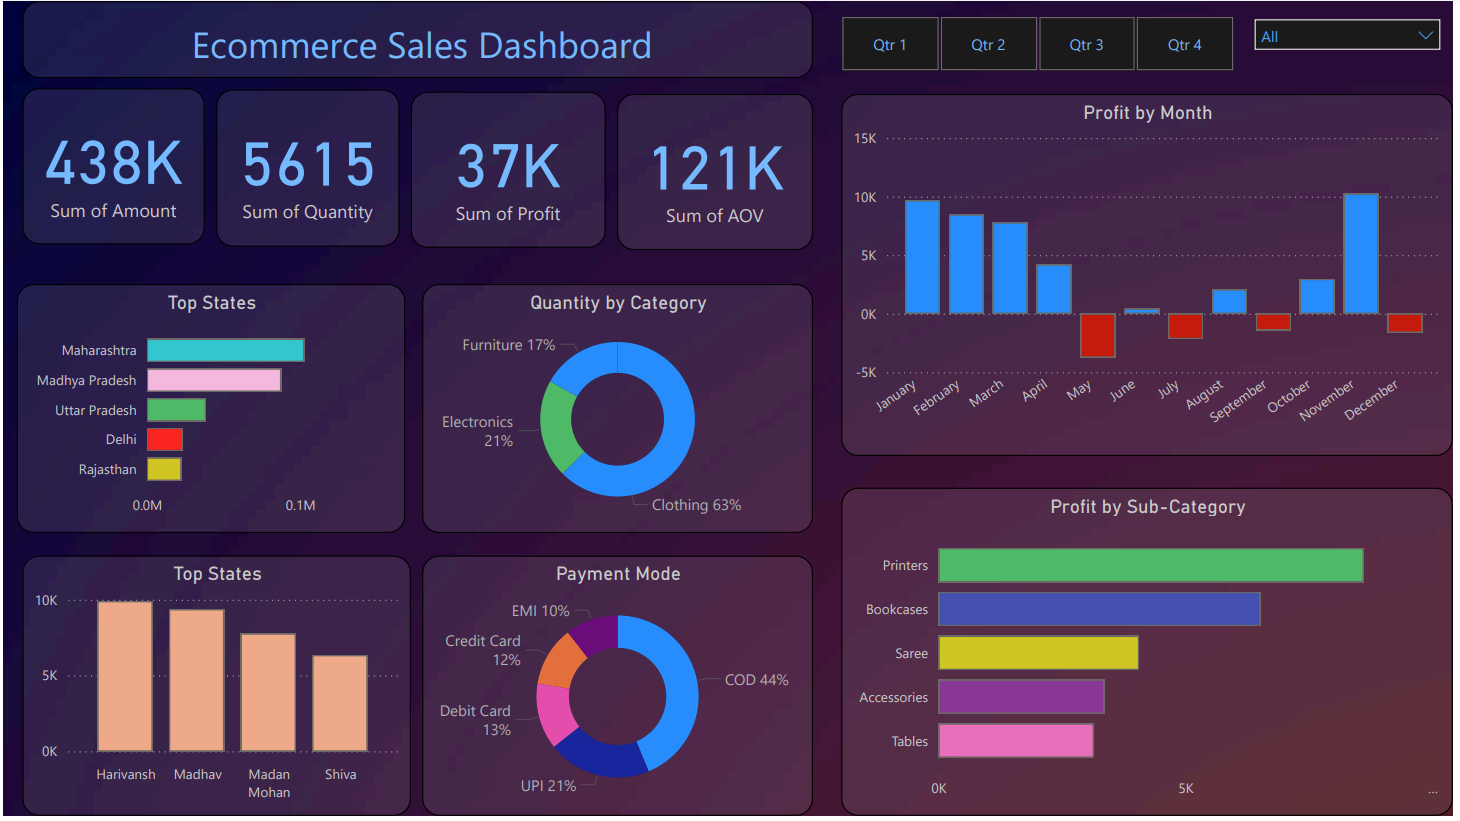

The page's visual inventory and layout, read from the dashboard file:
{"tool":"powerbi","page":{"name":"Page 1","canvas":[1280,720],"ordinal":0},"visuals":[{"type":"textbox","title":"Madhav Ecommerce Sales Dashboard","box":[16.7,0,698.3,68.3],"z":0},{"type":"clusteredColumnChart","title":"Profit by Month","fields":{"Category":["Orders.Order Date.Variation.Date Hierarchy.Month"],"Y":["Sum(Details.Profit)"]},"box":[740,81.7,540,320],"z":1000},{"type":"barChart","title":"Profit by Sub-Category","fields":{"Category":["Details.Sub-Category"],"Y":["Sum(Details.Profit)"]},"box":[740,430,540,290],"z":2000},{"type":"donutChart","title":"Quantity by Category","fields":{"Category":["Details.Category"],"Y":["Sum(Details.Quantity)"]},"box":[370,250,345,220],"z":3000},{"type":"donutChart","title":"Payment Mode","fields":{"Y":["Sum(Details.Quantity)"],"Category":["Details.PaymentMode"]},"box":[370,490,345,230],"z":4000},{"type":"card","fields":{"Values":["Sum(Details.Amount)"]},"box":[16.7,76.7,161.7,138.3],"z":5000},{"type":"card","fields":{"Values":["Sum(Details.Quantity)"]},"box":[188.3,78.3,161.7,138.3],"z":6000},{"type":"card","fields":{"Values":["Sum(Details.Profit)"]},"box":[360,80,171.7,138.3],"z":7000},{"type":"card","fields":{"Values":["Sum(Details.AOV)"]},"box":[541.7,81.7,173.3,138.3],"z":8000},{"type":"barChart","title":"Top States","fields":{"Category":["Orders.State"],"Y":["Sum(Details.Amount)"]},"box":[11.7,250,343.3,220],"z":9000},{"type":"columnChart","title":"Top States","fields":{"Category":["Orders.CustomerName"],"Y":["Sum(Details.Amount)"]},"box":[16.7,490,343.3,230],"z":10000},{"type":"slicer","fields":{"Values":["Orders.Order Date.Variation.Date Hierarchy.Quarter"]},"box":[715,6.7,395,61.7],"z":11000},{"type":"slicer","fields":{"Values":["Orders.State"]},"box":[1094.6,6.5,184.6,61.5],"z":12000}]}

Visuals, with their boxes in screenshot pixels (x1, y1, x2, y2), scaled from the page's 1280x720 canvas onto the 1460x821 screenshot:
"Madhav Ecommerce Sales Dashboard" textbox: [x1=19, y1=0, x2=816, y2=78]
"Profit by Month" clusteredColumnChart: [x1=844, y1=93, x2=1459, y2=458]
"Profit by Sub-Category" barChart: [x1=844, y1=490, x2=1459, y2=820]
"Quantity by Category" donutChart: [x1=422, y1=285, x2=816, y2=536]
"Payment Mode" donutChart: [x1=422, y1=559, x2=816, y2=820]
card - Sum(Details.Amount): [x1=19, y1=87, x2=203, y2=245]
card - Sum(Details.Quantity): [x1=215, y1=89, x2=399, y2=247]
card - Sum(Details.Profit): [x1=411, y1=91, x2=606, y2=249]
card - Sum(Details.AOV): [x1=618, y1=93, x2=816, y2=251]
"Top States" barChart: [x1=13, y1=285, x2=405, y2=536]
"Top States" columnChart: [x1=19, y1=559, x2=411, y2=820]
slicer - Orders.Order Date.Variation.Date Hierarchy.Quarter: [x1=816, y1=8, x2=1266, y2=78]
slicer - Orders.State: [x1=1249, y1=7, x2=1459, y2=78]
